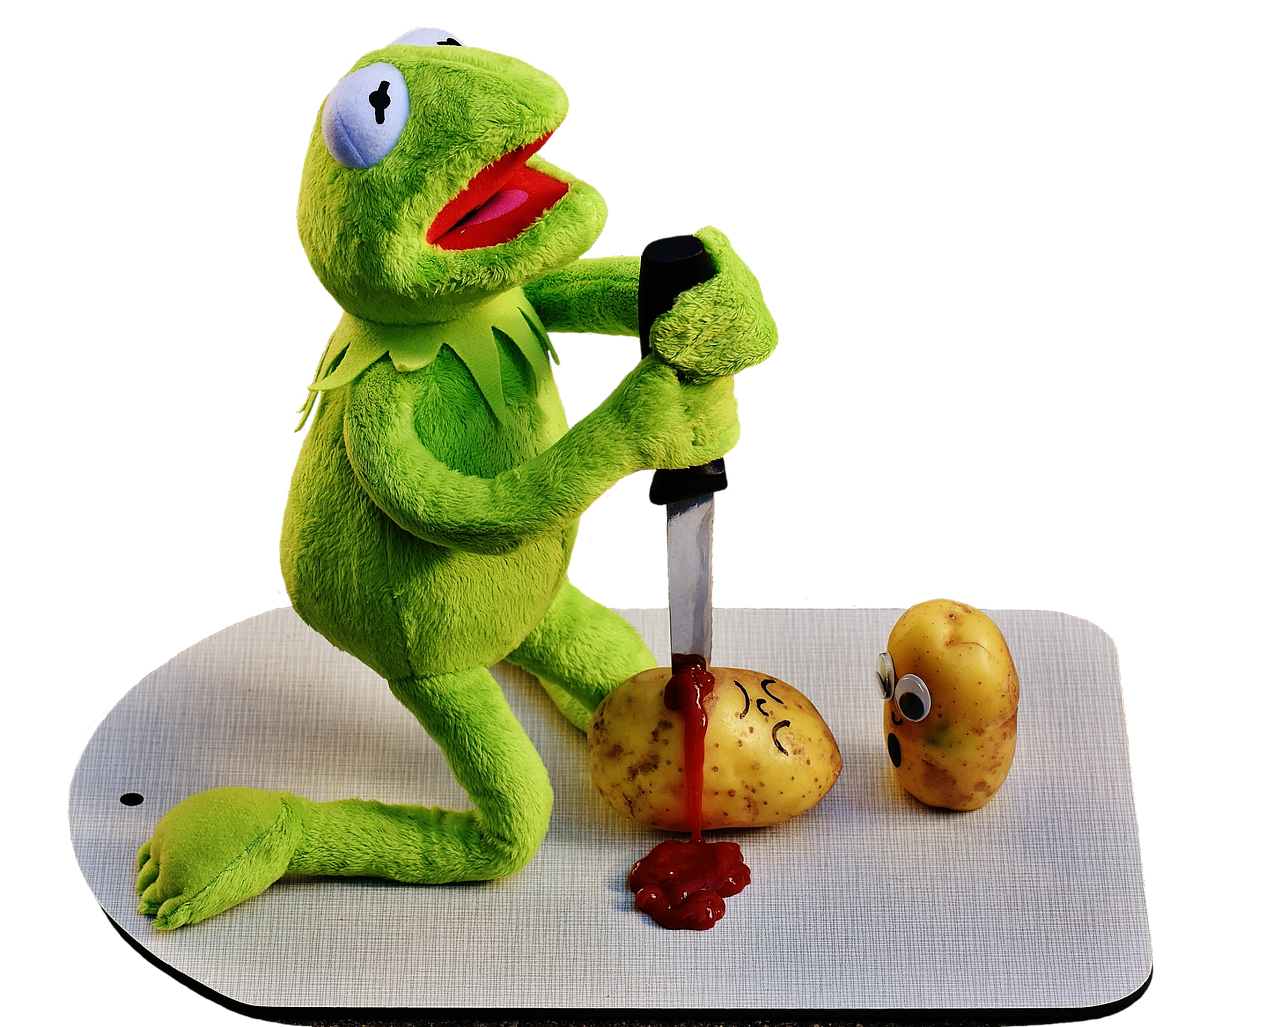knife: (637, 230, 727, 726)
